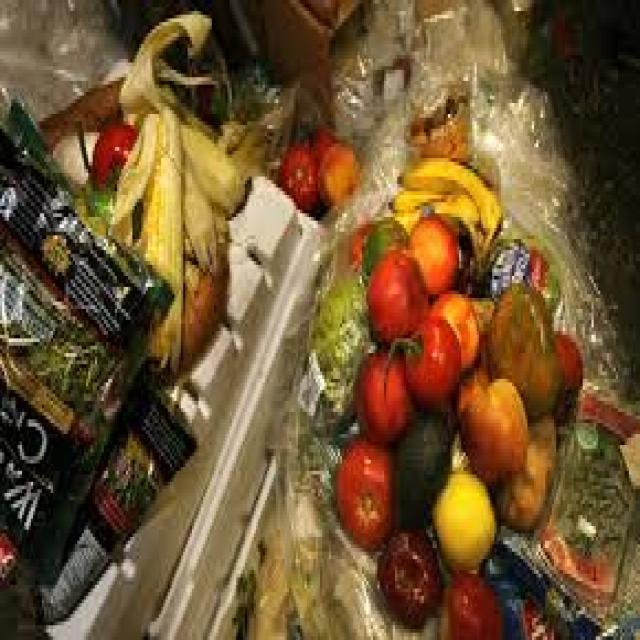Organik: (284, 81, 640, 640), (76, 15, 239, 408), (390, 115, 518, 276), (273, 116, 360, 221)
